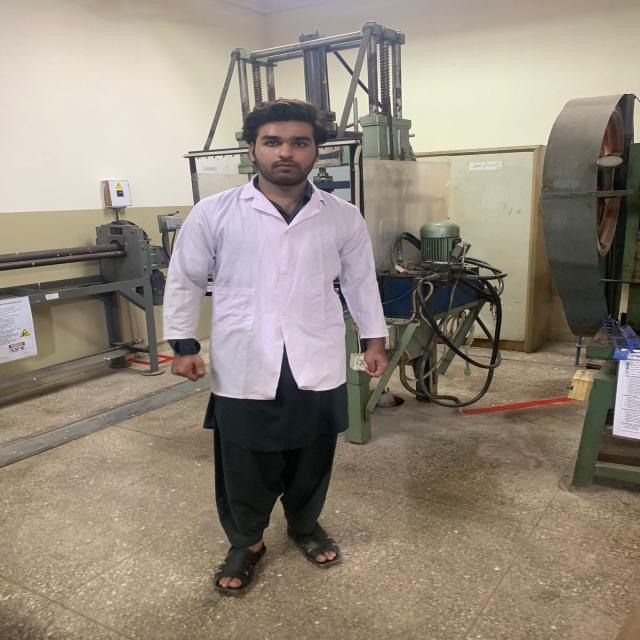labcoat: (160, 170, 389, 402)
